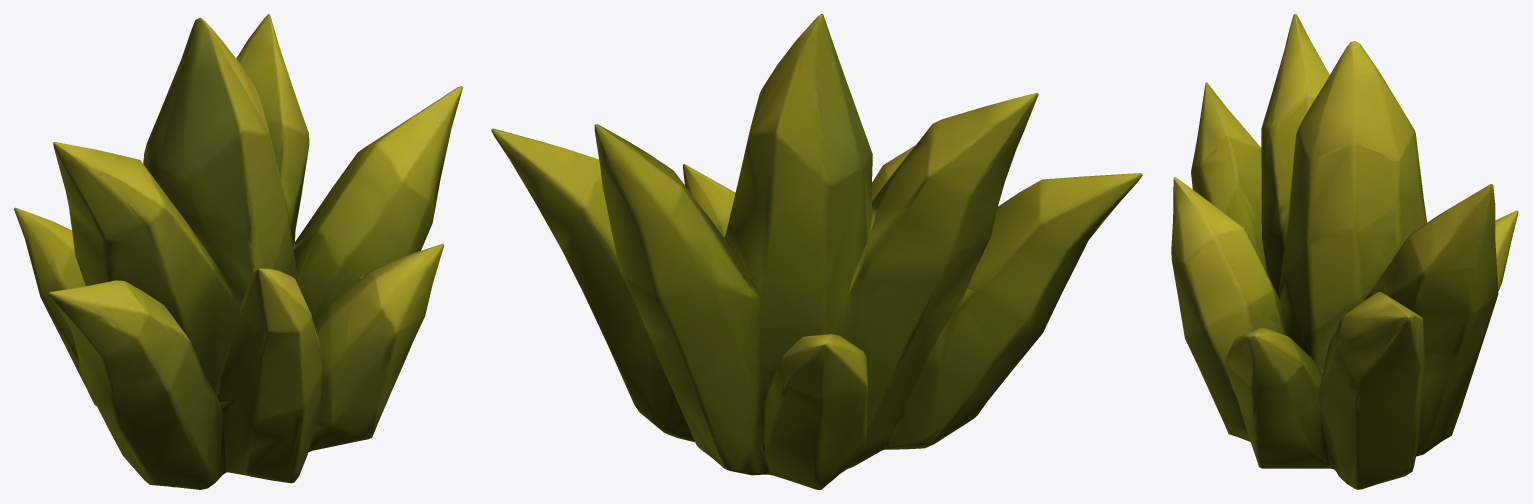
Rendered from grass.glb.
The picture shows the model from 3 angles, left to right: view 1: azimuth 30°, elevation 25°; view 2: azimuth 150°, elevation 25°; view 3: azimuth 270°, elevation 25°; orthographic projection. The views are drawn at different scales.
Visible parts, largest first — view 1: grass; view 2: grass; view 3: grass.
Boxes of the visible parts, x1=… form: grass: x1=14, y1=14, x2=462, y2=489; grass: x1=491, y1=14, x2=1142, y2=489; grass: x1=1171, y1=14, x2=1518, y2=489.
Bounding box in the file's own units: 1 × 0.7693 × 0.6312.
Materials: 1 (1 with a texture image).
